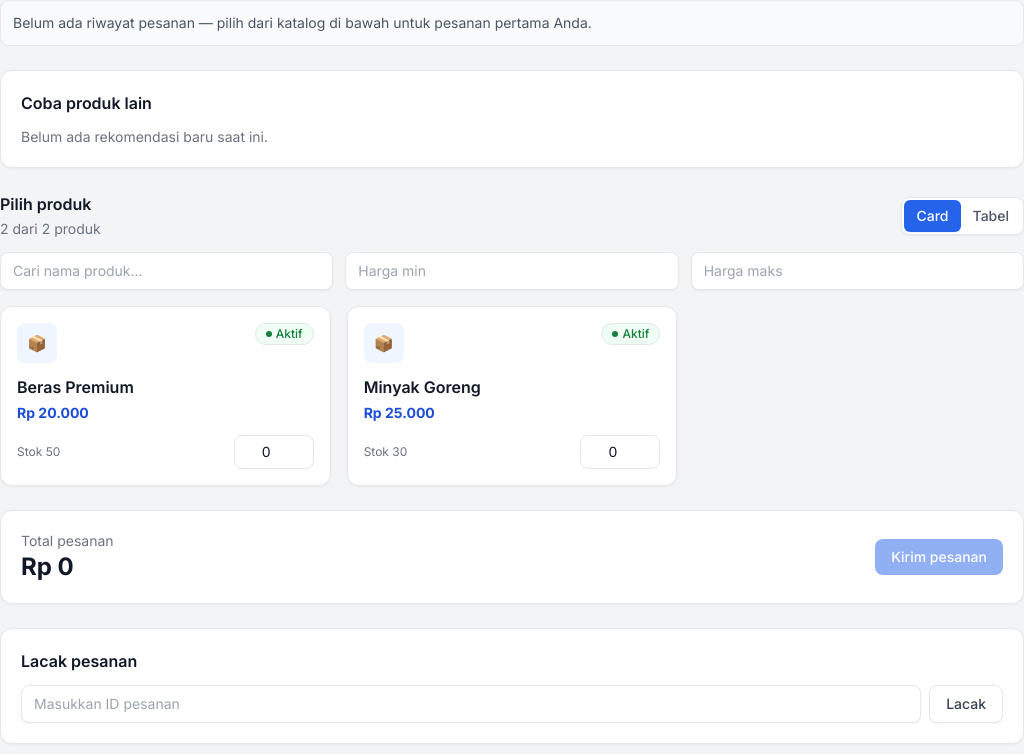
Test case: OrderForm — offline queue integration › normal online submission still works (no queue)
Replace the text in the number field named "Jumlah Beras Premium" with "1": (274, 452) 234,435 -> 314,469
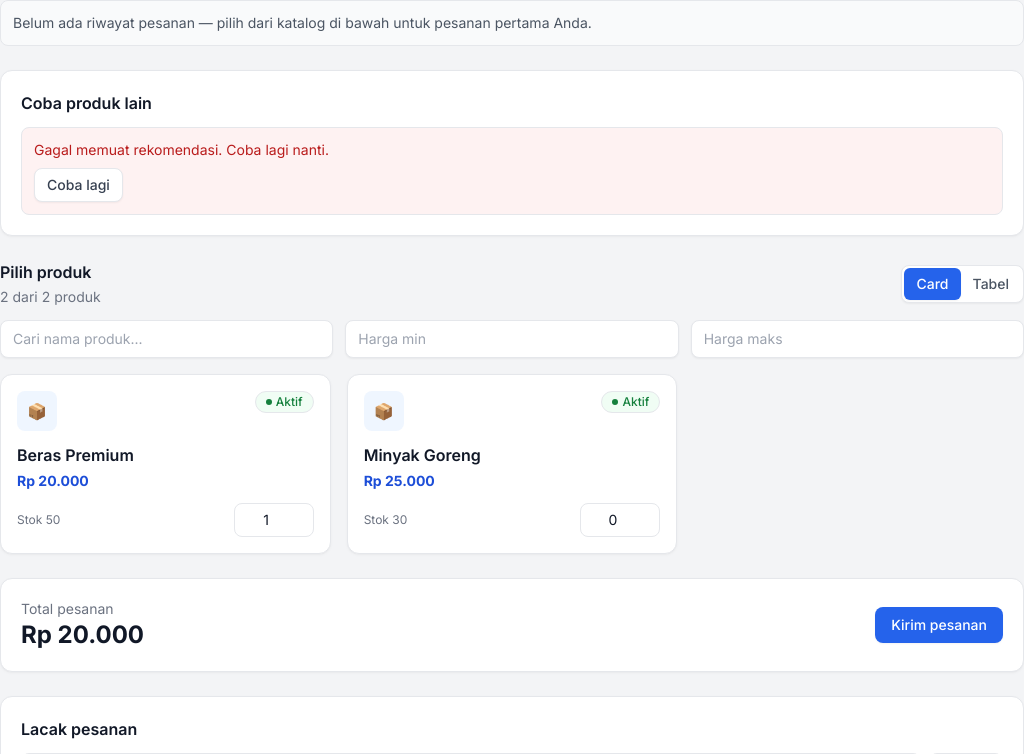
Click the button "Kirim pesanan": (939, 625) 875,607 -> 1003,643
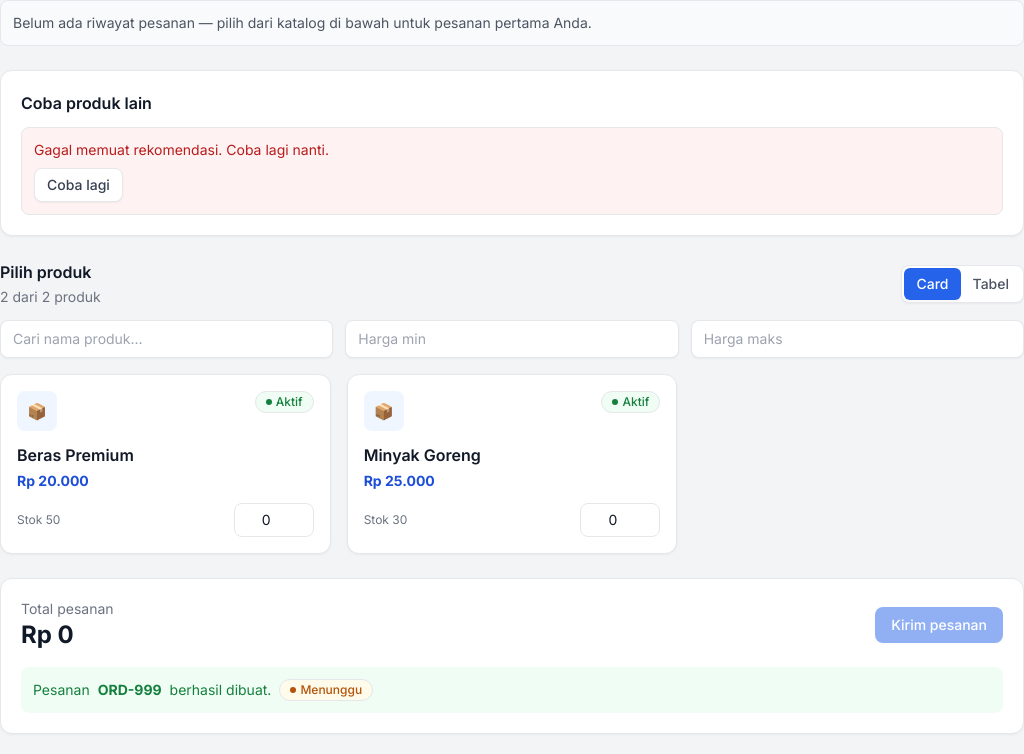
Expected: the text "ORD-999" is shown, 98,680 -> 162,700
